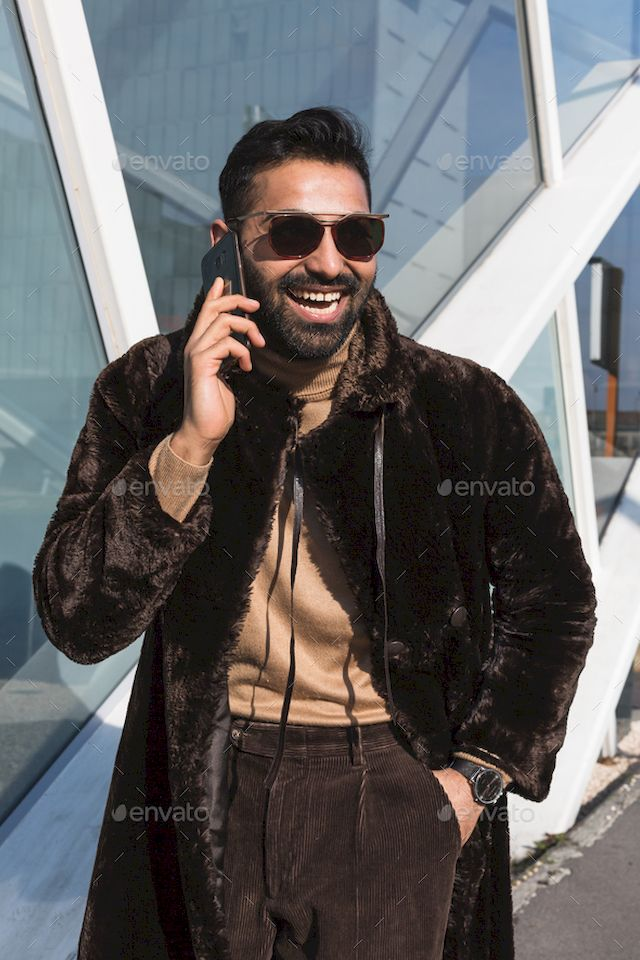phone: (194, 237, 255, 358)
talk: (179, 203, 380, 451)
